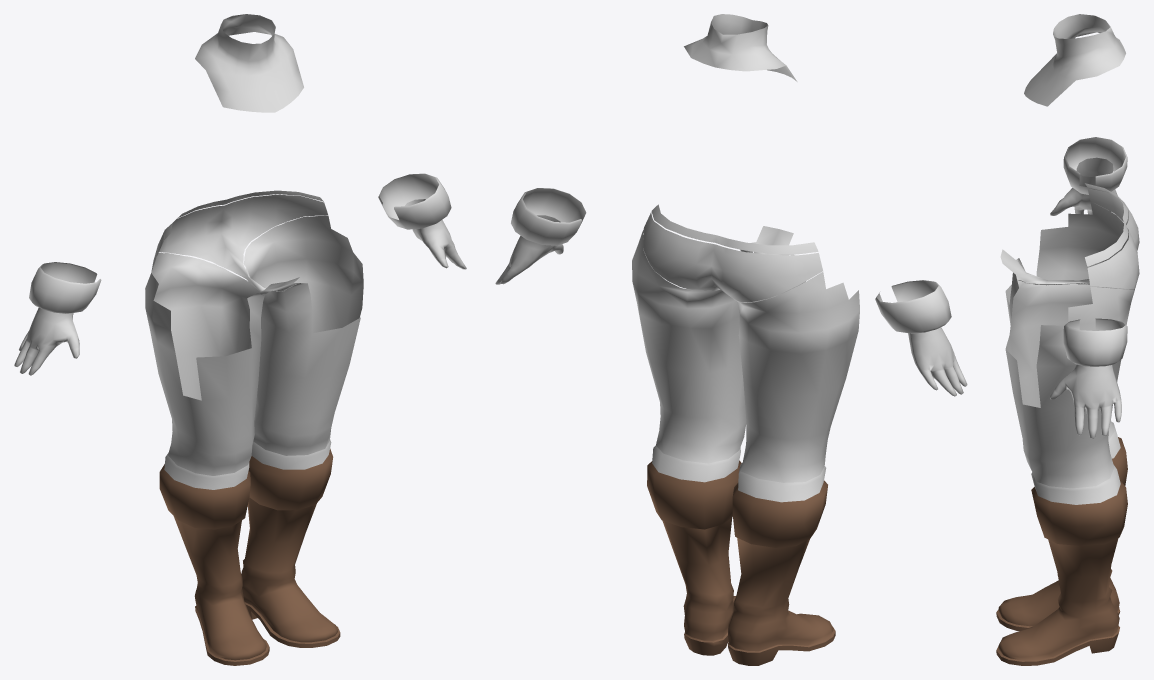
Rendered from Part_Body_BASE_ARMOR.fbx.
3 renders of one model, left to right at view 1: azimuth 30°, elevation 25°; view 2: azimuth 150°, elevation 25°; view 3: azimuth 270°, elevation 25°, orthographic. The views are drawn at different scales.
Parts seen in each view (by area): view 1: Part_Body_BASE_ARMOR; view 2: Part_Body_BASE_ARMOR; view 3: Part_Body_BASE_ARMOR.
Part boxes in pixels (<box>): Part_Body_BASE_ARMOR: <box>14,14,466,665</box>; Part_Body_BASE_ARMOR: <box>495,14,967,665</box>; Part_Body_BASE_ARMOR: <box>996,14,1139,665</box>.
Bounding box in the file's own units: 0.5624 × 0.7282 × 0.1549.
